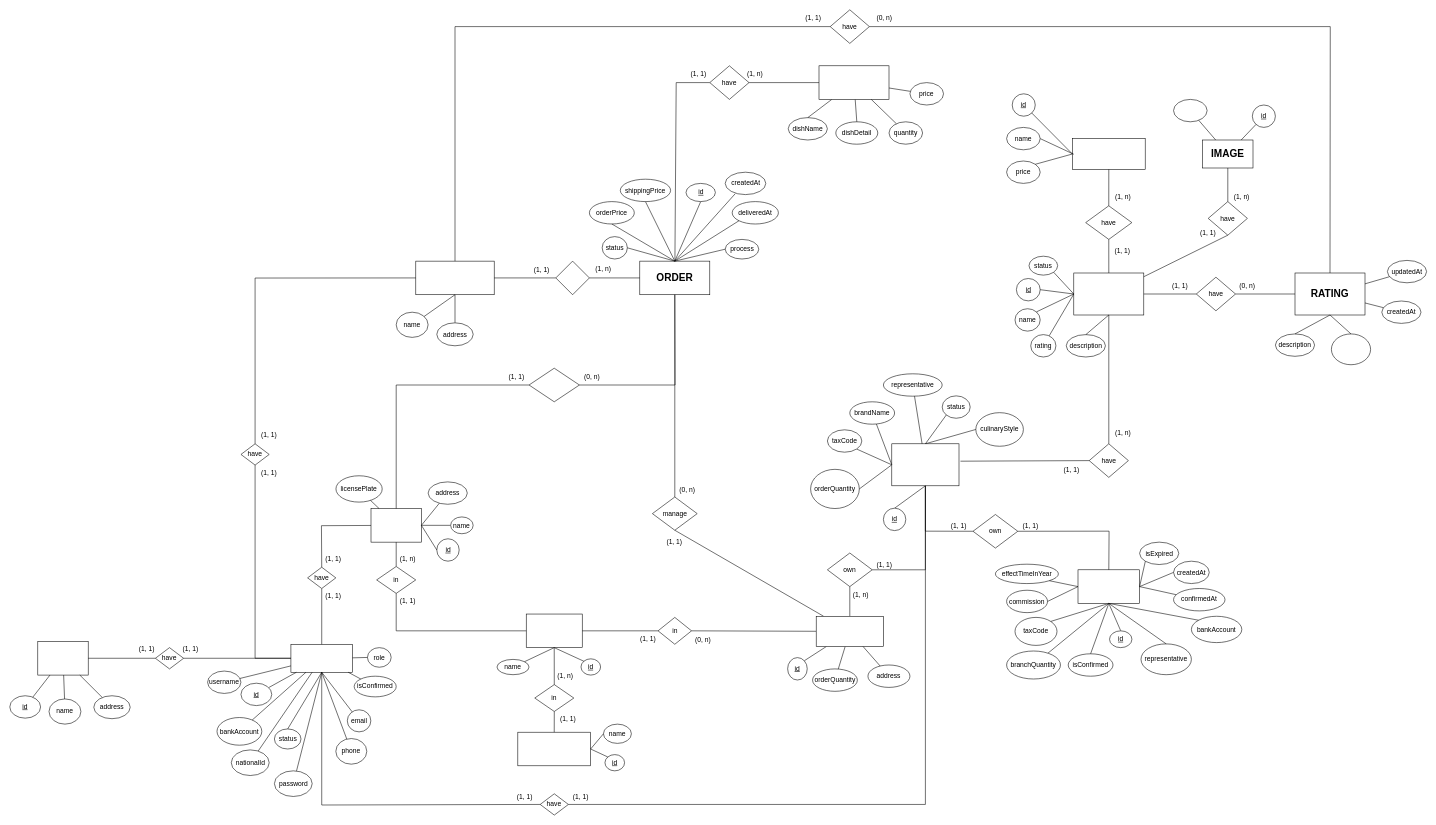
The diagram is 1436 pixels wide and 825 high, and some of its shapes have lost their labels. The shapes that lost their labels are listed below. From the top down, each one's centre as x and y in pixels, then its label:
At pixel 853 82: "ORDER DETAIL".
At pixel 1190 110: "filename".
At pixel 1108 153: "DISH DETAIL".
At pixel 454 278: "CUSTOMER".
At pixel 572 278: "create".
At pixel 1108 293: "DISH".
At pixel 1351 349: "isLike".
At pixel 553 385: "take".
At pixel 925 464: "PARTNER".
At pixel 395 525: "SHIPPER".
At pixel 1108 586: "CONTRACT".
At pixel 554 630: "DISTRICT".
At pixel 849 631: "BRANCH".
At pixel 62 658: "STAFF".
At pixel 321 658: "ACCOUNT".
At pixel 554 749: "CITY".
